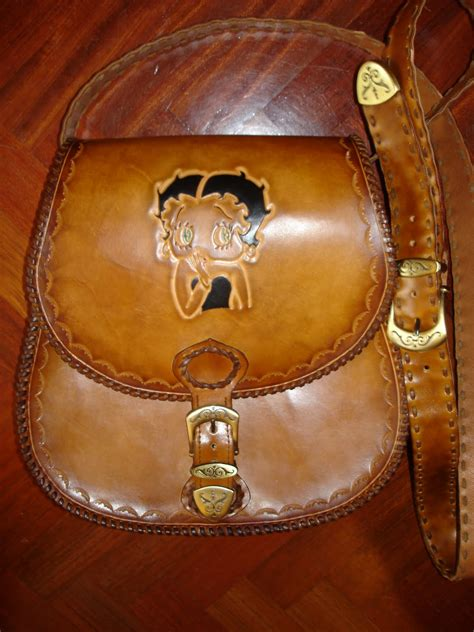cuero: (18, 62, 473, 585)
